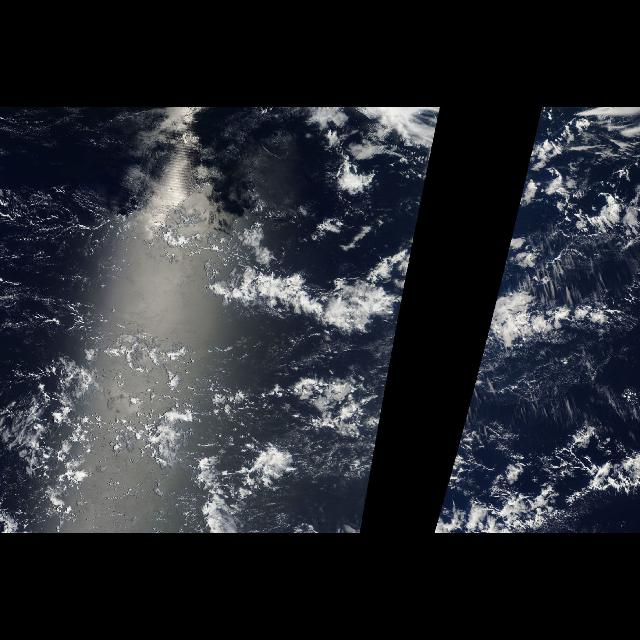Gravel: (14, 258, 308, 530)
